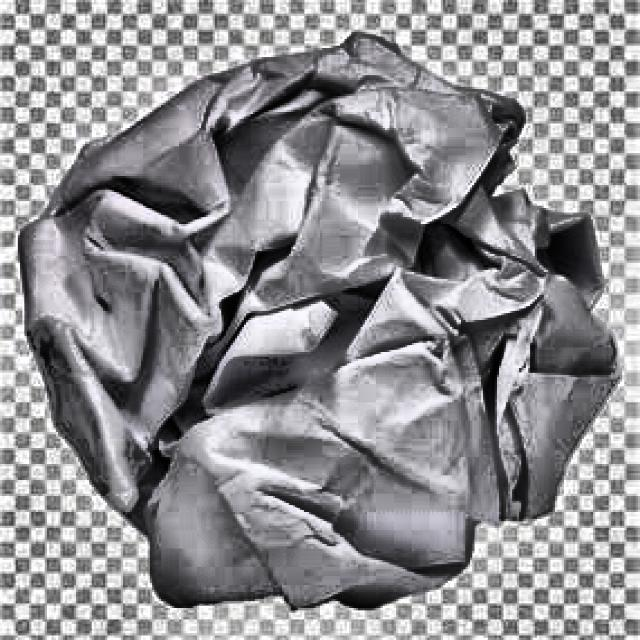Paper: (0, 19, 626, 621)
